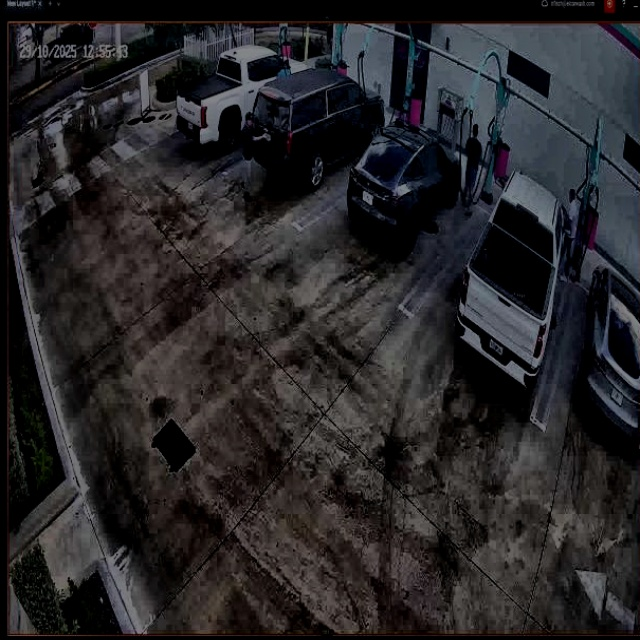Car: (456, 172, 573, 390), (250, 71, 383, 189), (349, 126, 461, 250)
